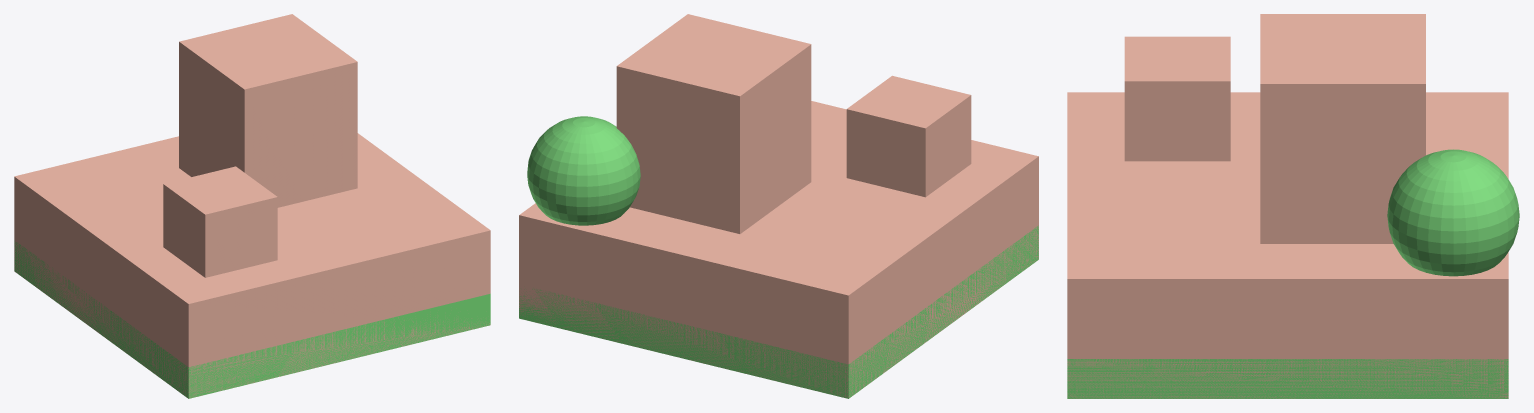
Rendered from castle.glb.
3 views of the same model, side by side, from view 1: azimuth 30°, elevation 25°; view 2: azimuth 150°, elevation 25°; view 3: azimuth 270°, elevation 25° (orthographic). The views are drawn at different scales.
Parts seen in each view (by area): view 1: OuterWall, MainTower, Ground, SmallTower; view 2: OuterWall, MainTower, Ground, SmallTower, TreeLeaves; view 3: OuterWall, MainTower, Ground, TreeLeaves, SmallTower.
Part boxes in pixels (x1,y1,x2,y2): OuterWall: (14, 133, 490, 398); MainTower: (179, 14, 357, 207); Ground: (14, 240, 490, 398); SmallTower: (163, 166, 277, 277); OuterWall: (519, 101, 1038, 398); MainTower: (616, 14, 811, 233); Ground: (519, 225, 1038, 398); SmallTower: (846, 75, 971, 197); TreeLeaves: (527, 116, 640, 225); OuterWall: (1067, 92, 1508, 398); MainTower: (1260, 14, 1425, 243); Ground: (1067, 359, 1508, 398); TreeLeaves: (1387, 149, 1519, 276); SmallTower: (1124, 36, 1230, 161).
Size of the model in its own units: 4.1 by 3 by 4.1.
